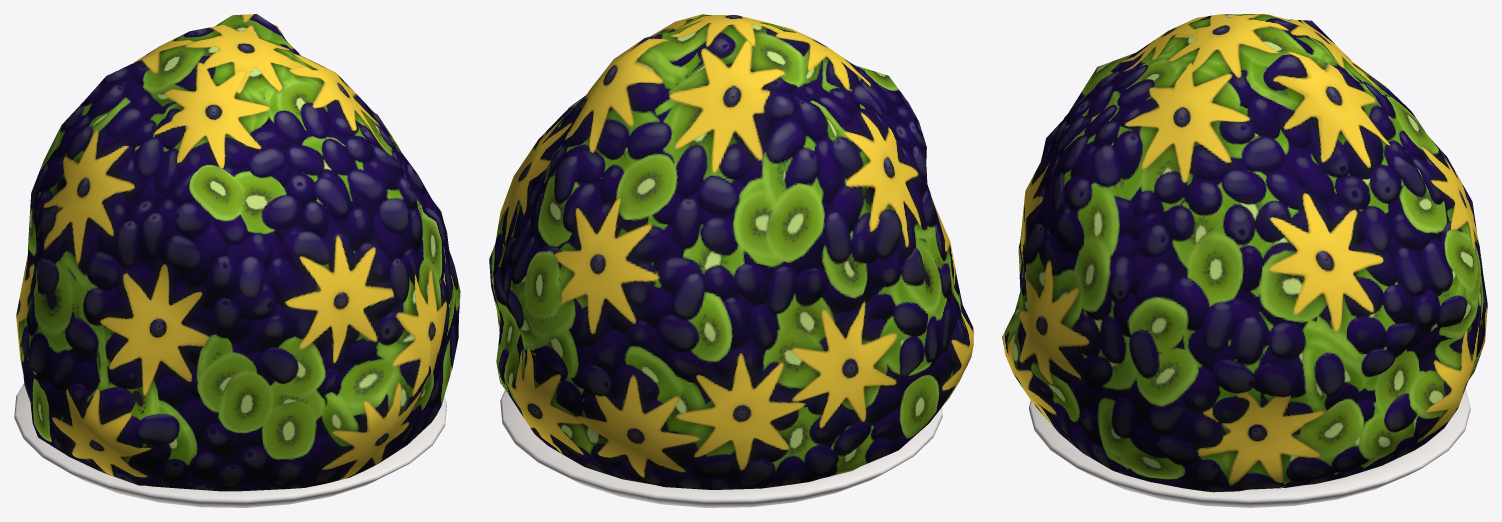
File: BuffetFruits02_3.FBX
3 renders of one model, left to right at view 1: azimuth 30°, elevation 25°; view 2: azimuth 150°, elevation 25°; view 3: azimuth 270°, elevation 25°, orthographic. The views are drawn at different scales.
Visible parts, largest first — view 1: BuffetFruits02_3; view 2: BuffetFruits02_3; view 3: BuffetFruits02_3.
Boxes of the visible parts, x1,y1,x2,y2 form: BuffetFruits02_3: [14, 14, 460, 507]; BuffetFruits02_3: [489, 14, 973, 507]; BuffetFruits02_3: [1002, 14, 1487, 507].
Size of what is drawn, in the model's own units: 0.4125 by 0.3864 by 0.4249.
